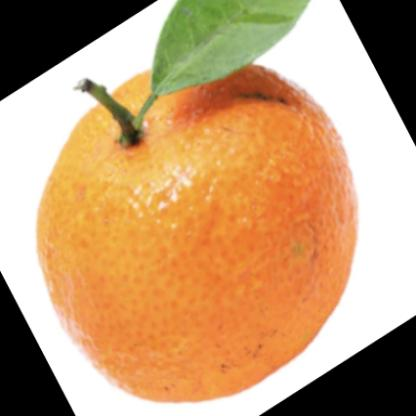fresh: (37, 60, 358, 402)
